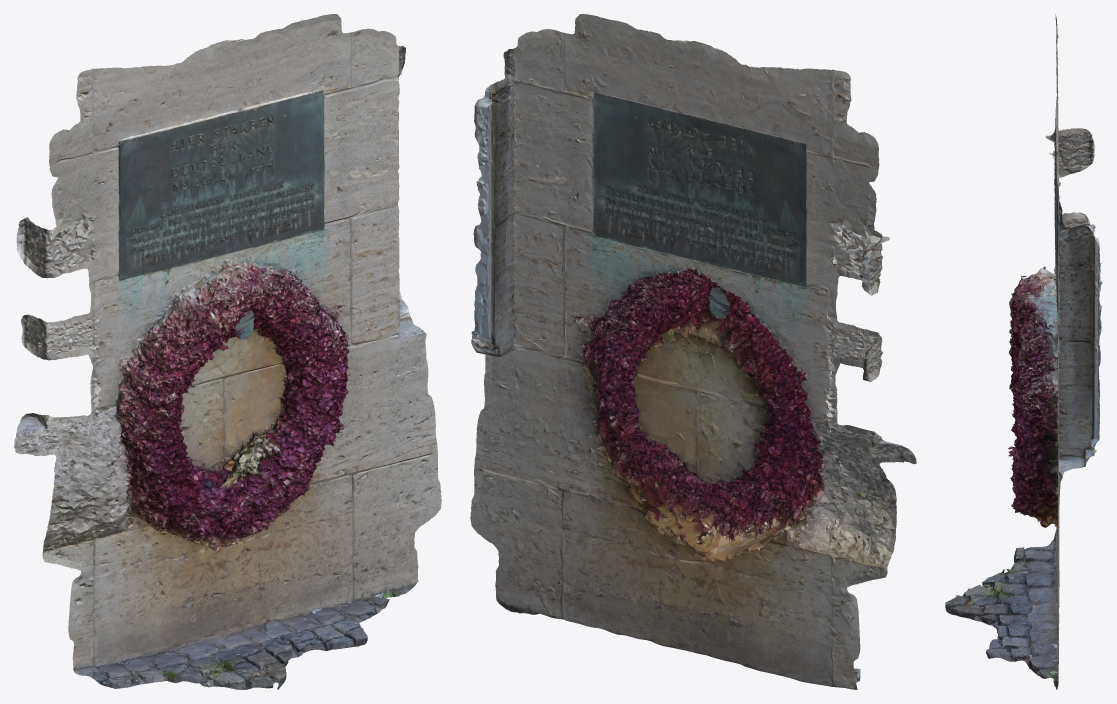
3 renders of one model, left to right at view 1: azimuth 30°, elevation 25°; view 2: azimuth 150°, elevation 25°; view 3: azimuth 270°, elevation 25°, orthographic. The views are drawn at different scales.
Parts seen in each view (by area): view 1: 1k.25k; view 2: 1k.25k; view 3: 1k.25k.
Boxes of the visible parts, x1=… form: 1k.25k: x1=14, y1=14, x2=441, y2=689; 1k.25k: x1=470, y1=14, x2=916, y2=689; 1k.25k: x1=945, y1=14, x2=1102, y2=689.
Bounding box in the file's own units: 2.76 × 3.73 × 0.9865.
1 material, 1 textured.
